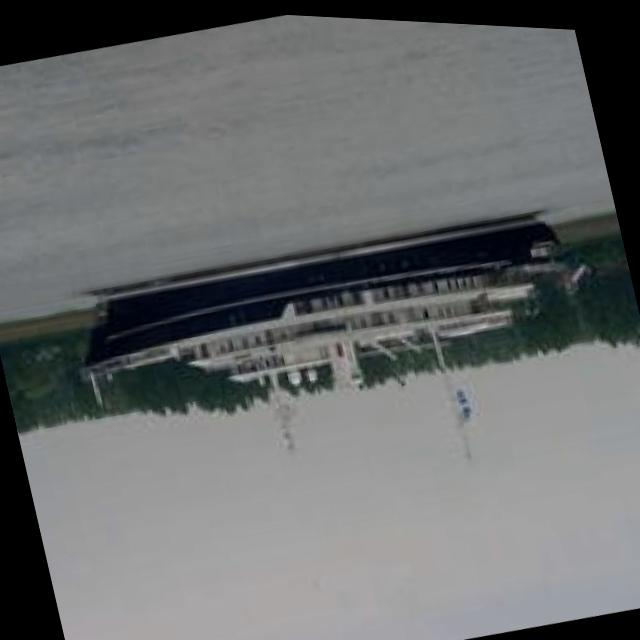ship2: (82, 209, 567, 454)
